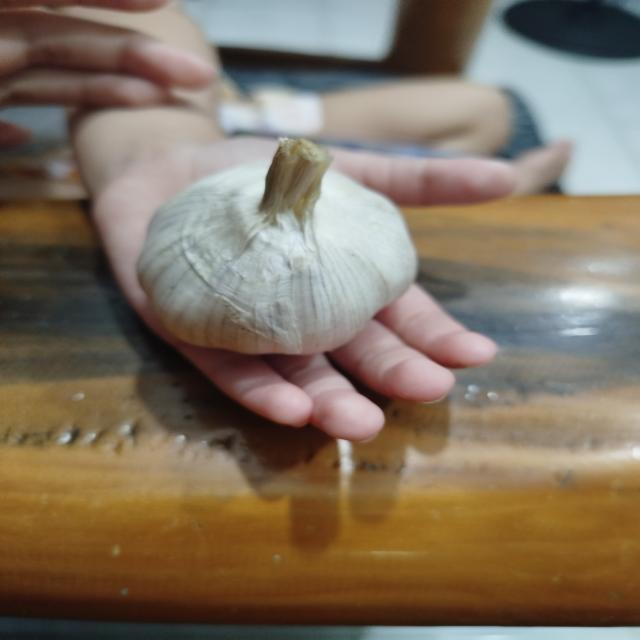garlic: (134, 136, 420, 356)
